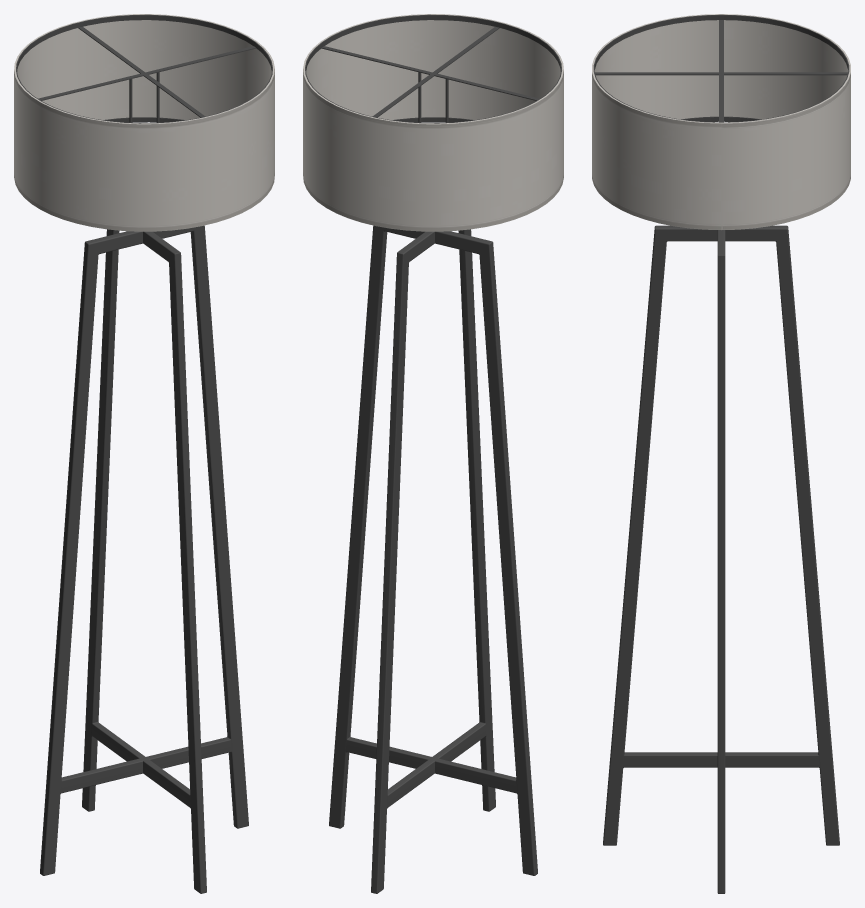
File: abo-B07376VCCW.glb
The picture shows the model from 3 angles, left to right: view 1: azimuth 30°, elevation 25°; view 2: azimuth 150°, elevation 25°; view 3: azimuth 270°, elevation 25°; orthographic projection.
Size of the model in its own units: 0.457 by 1.51 by 0.457.
Materials: 1 (1 with a texture image).
